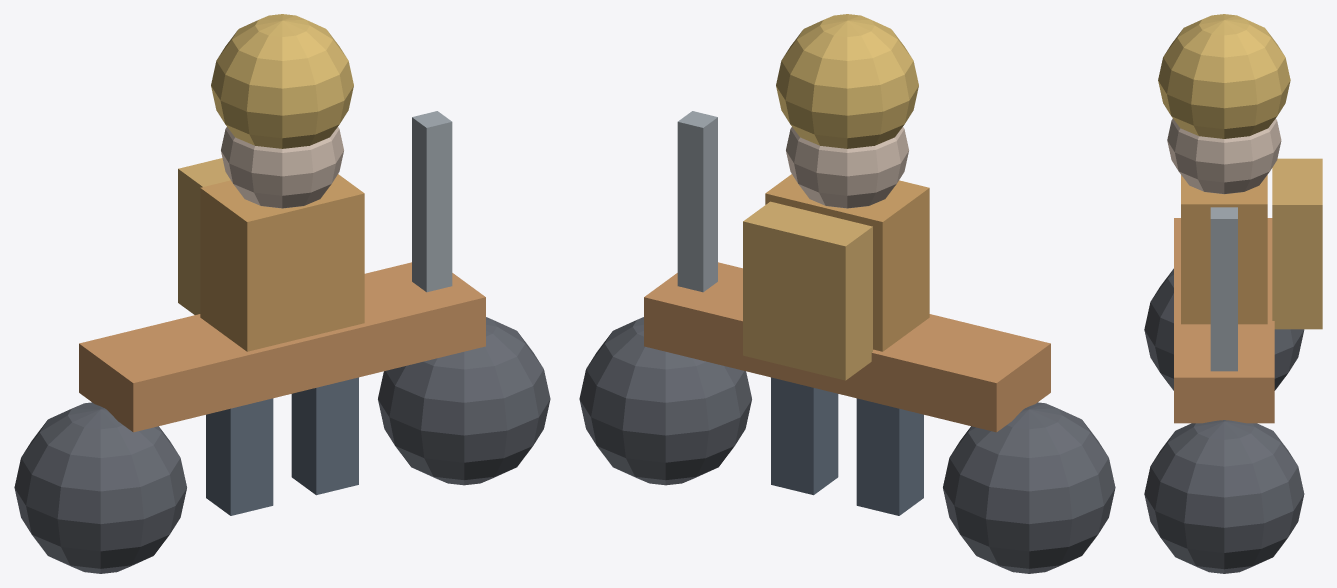
Rendered from scooter.glb.
3 renders of one model, left to right at view 1: azimuth 30°, elevation 25°; view 2: azimuth 150°, elevation 25°; view 3: azimuth 270°, elevation 25°, orthographic. The views are drawn at different scales.
Size of the model in its own units: 2.4 by 2.24 by 0.78.
